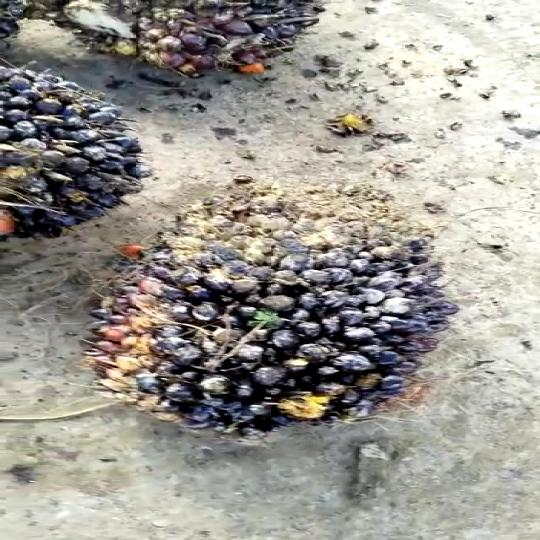mentah: (96, 176, 487, 477), (0, 56, 188, 241)
